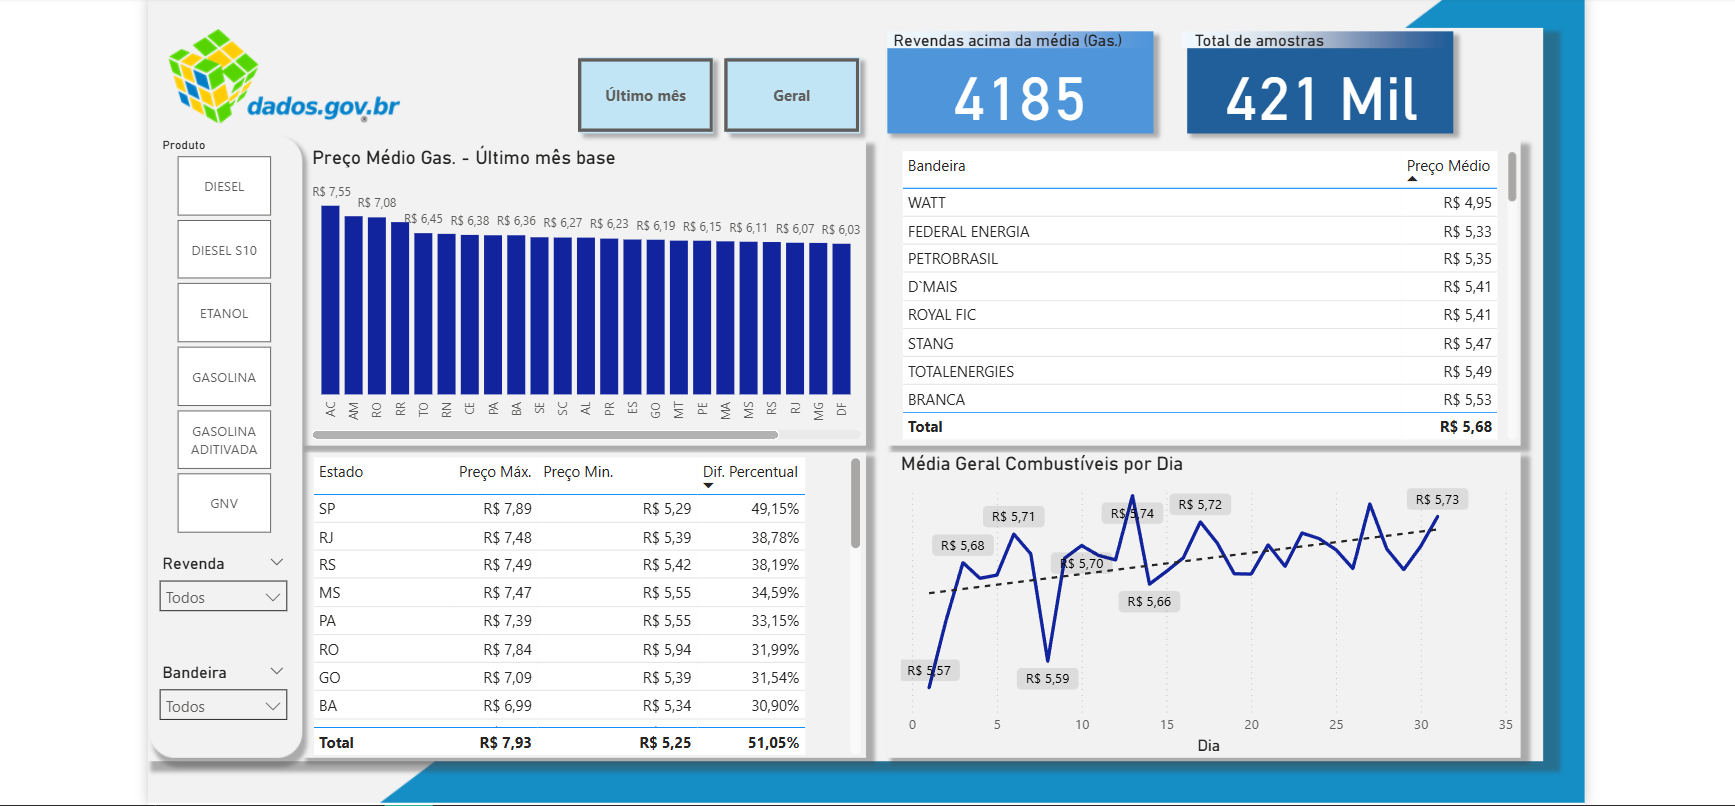

The dashboard page shown, as its layout file describes it:
{"tool":"powerbi","page":{"name":"Relatório de Combustíveis","canvas":[1280,720],"ordinal":0},"visuals":[{"type":"clusteredColumnChart","title":"Preço Médio Gas. - ÚItimo mês base","fields":{"Category":["dEstados.Estado - Sigla"],"Y":["Medidas.Preco Medio Gas"]},"box":[141.8,132,498.3,266.6],"z":0},{"type":"card","title":"Revendas acima da média (Gas.)","fields":{"Values":["Medidas.Revendas acima da Media"]},"box":[659,30.5,236.1,89.8],"z":1000},{"type":"tableEx","fields":{"Values":["dBandeiras.Bandeira","Medidas.Media Geral Combustiveis"]},"box":[665.2,132,558.4,266.6],"z":2000},{"type":"tableEx","fields":{"Values":["dEstados.Estado - Sigla","Max(fPrecos.Valor de Venda)","Min(fPrecos.Valor de Venda)1","Medidas.Dif Percent Diesel"]},"box":[141.8,404.9,498.3,274.7],"z":3000},{"type":"lineChart","title":"Média Geral Combustíveis por Dia","fields":{"Category":["fPrecos.Data da Coleta.Variation.Hierarquia de datas.Ano","fPrecos.Data da Coleta.Variation.Hierarquia de datas.Trimestre","fPrecos.Data da Coleta.Variation.Hierarquia de datas.Mês","fPrecos.Data da Coleta.Variation.Hierarquia de datas.Dia"],"Y":["Medidas.Media Geral Combustiveis"]},"box":[665.2,404.9,558.4,274.7],"z":4000},{"type":"slicer","fields":{"Values":["dProdutos.Produto"]},"box":[0,120.3,133.8,363.6],"z":5000},{"type":"card","title":"Total de amostras","fields":{"Values":["Medidas.Total Amostras"]},"box":[927.4,30.5,236.1,89.8],"z":6000},{"type":"slicer","fields":{"Values":["dRevenda.Revenda"]},"box":[0,491.1,133.8,97],"z":8000},{"type":"slicer","fields":{"Values":["dBandeiras.Bandeira"]},"box":[0,588,133.8,80.8],"z":9000},{"type":"actionButton","box":[382.4,54.8,120.3,65.5],"z":10000},{"type":"actionButton","box":[513.5,54.8,120.3,65.5],"z":11000}]}

Visuals, with their boxes on the page's 1280x720 design canvas (x1, y1, x2, y2). These are canvas units, not pixel positions in the 1735x806 screenshot, which may show the page scaled, cropped or inside an application window:
"Preço Médio Gas. - ÚItimo mês base" clusteredColumnChart: crop(142, 132, 640, 399)
"Revendas acima da média (Gas.)" card: crop(659, 30, 895, 120)
tableEx - dBandeiras.Bandeira x Medidas.Media Geral Combustiveis: crop(665, 132, 1224, 399)
tableEx - dEstados.Estado - Sigla x Max(fPrecos.Valor de Venda): crop(142, 405, 640, 680)
"Média Geral Combustíveis por Dia" lineChart: crop(665, 405, 1224, 680)
slicer - dProdutos.Produto: crop(0, 120, 134, 484)
"Total de amostras" card: crop(927, 30, 1164, 120)
slicer - dRevenda.Revenda: crop(0, 491, 134, 588)
slicer - dBandeiras.Bandeira: crop(0, 588, 134, 669)
actionButton: crop(382, 55, 503, 120)
actionButton: crop(514, 55, 634, 120)
